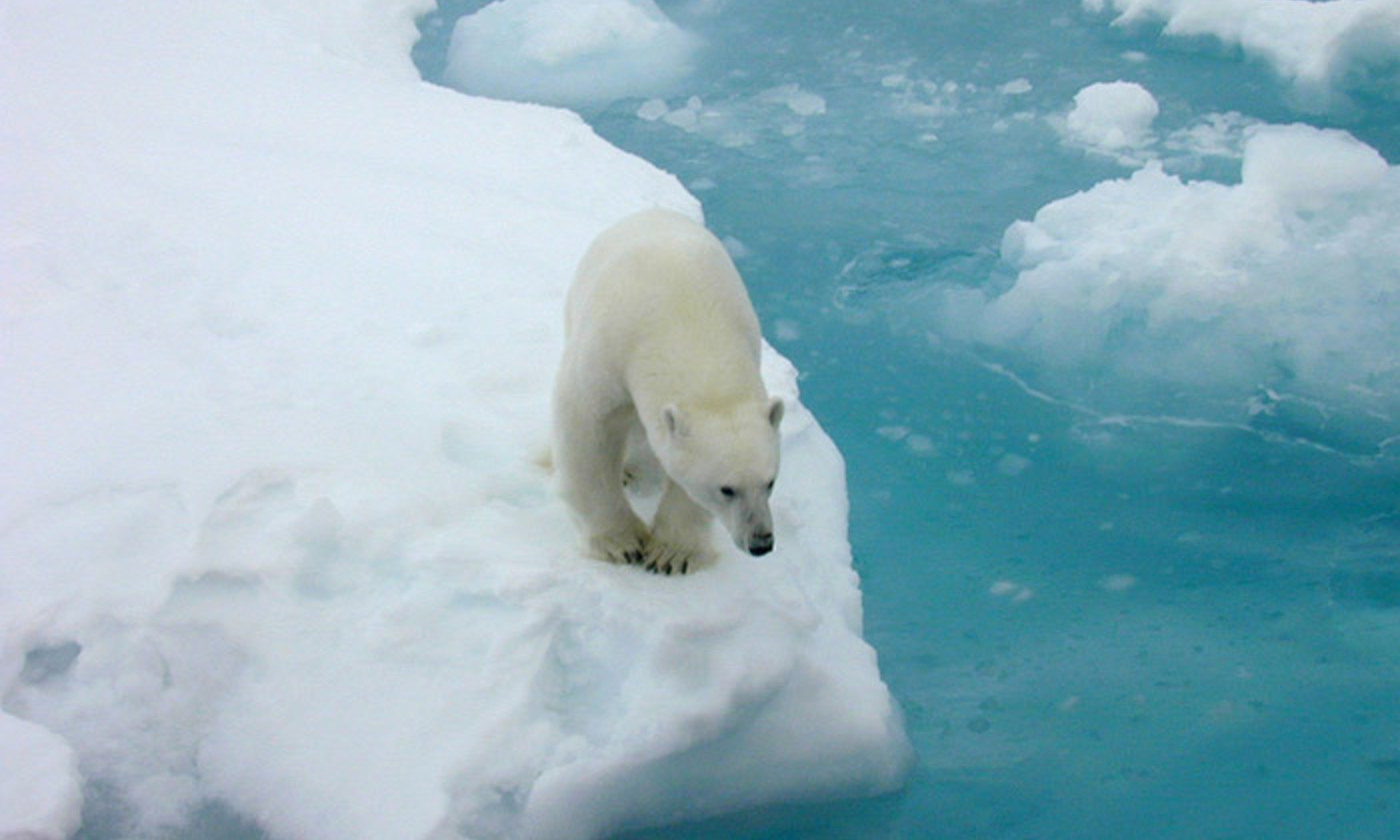Polar Bear: (517, 181, 853, 663)
